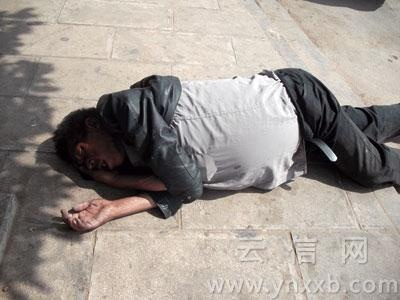falling: (36, 56, 400, 242)
